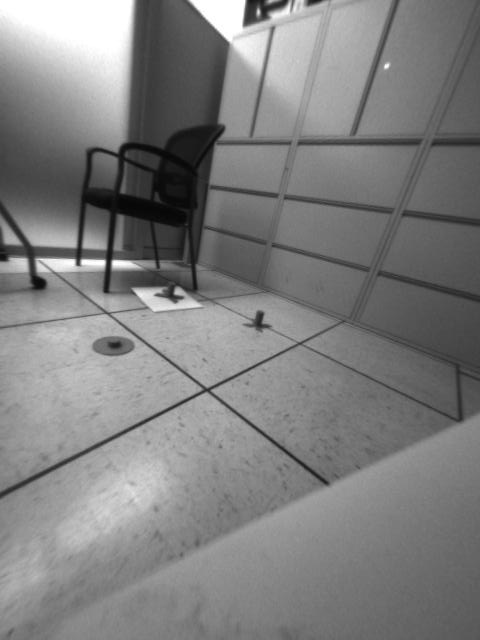X: (151, 279, 184, 302), (240, 311, 273, 333)
